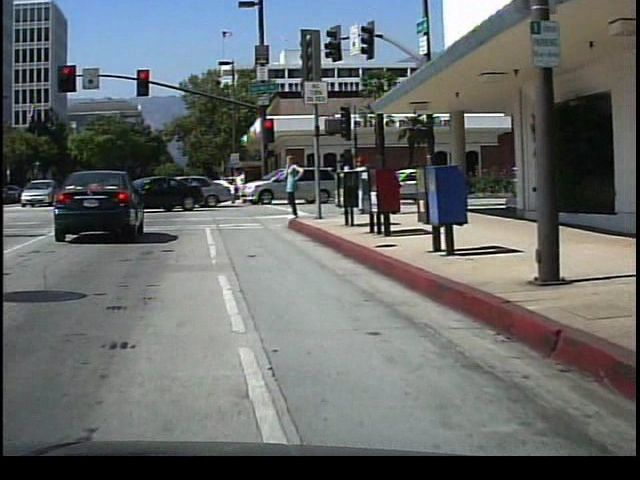person: (281, 151, 309, 221), (355, 152, 376, 216), (337, 152, 358, 214)
